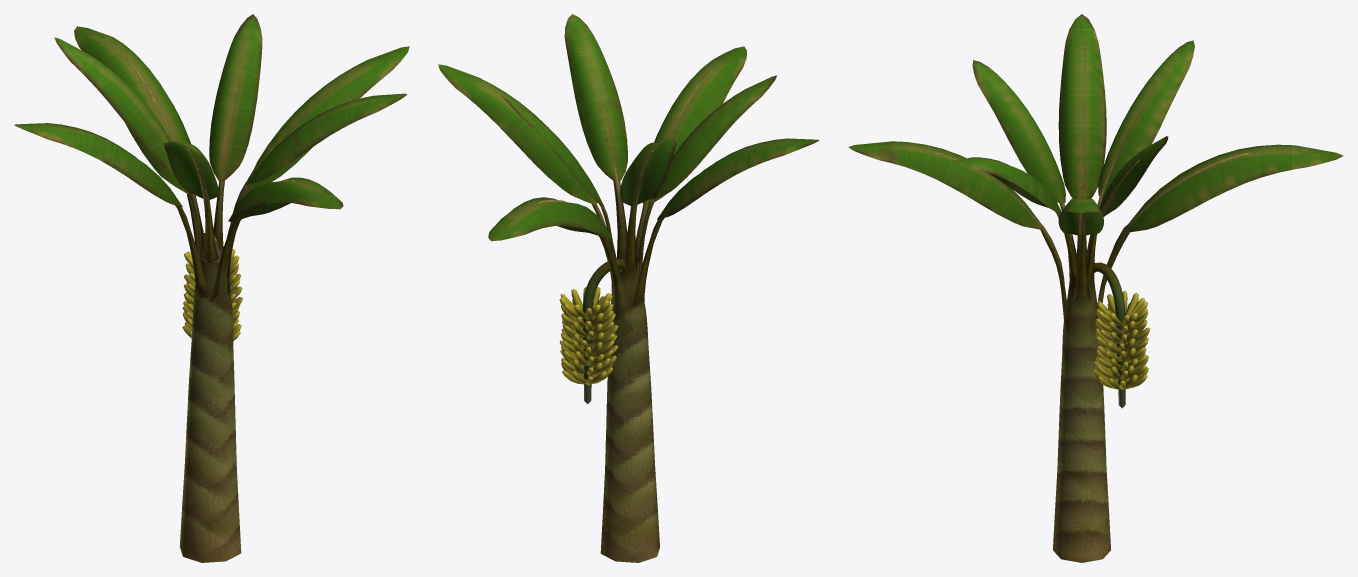
Rendered from sb_obj_nature010_Jungles05b.fbx.
3 views of the same model, side by side, from view 1: azimuth 30°, elevation 25°; view 2: azimuth 150°, elevation 25°; view 3: azimuth 270°, elevation 25° (orthographic). The views are drawn at different scales.
Visible parts, largest first — view 1: leaf05b, sb_obj_nature010_Jungles05b, banana; view 2: leaf05b, sb_obj_nature010_Jungles05b, banana; view 3: leaf05b, sb_obj_nature010_Jungles05b, banana.
Part boxes in pixels (box(x1,y1,x2,y2)): leaf05b: box(14, 14, 409, 221); sb_obj_nature010_Jungles05b: box(126, 58, 295, 562); banana: box(182, 233, 242, 340); leaf05b: box(438, 14, 819, 241); sb_obj_nature010_Jungles05b: box(537, 83, 700, 562); banana: box(559, 258, 625, 404); leaf05b: box(848, 14, 1343, 235); sb_obj_nature010_Jungles05b: box(932, 152, 1252, 562); banana: box(1086, 262, 1150, 408).
Bounding box in the file's own units: 3.01 × 3.59 × 3.46.
